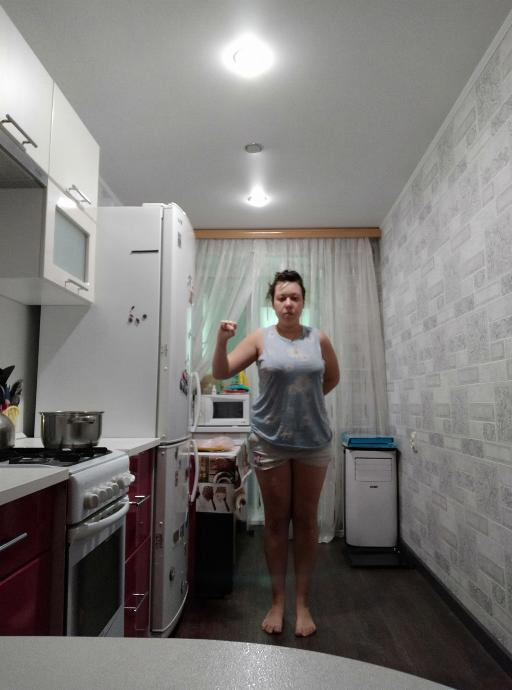fist: (216, 318, 237, 340)
